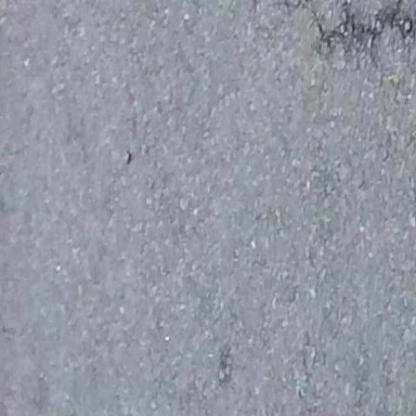Cracks: (288, 2, 416, 75)
